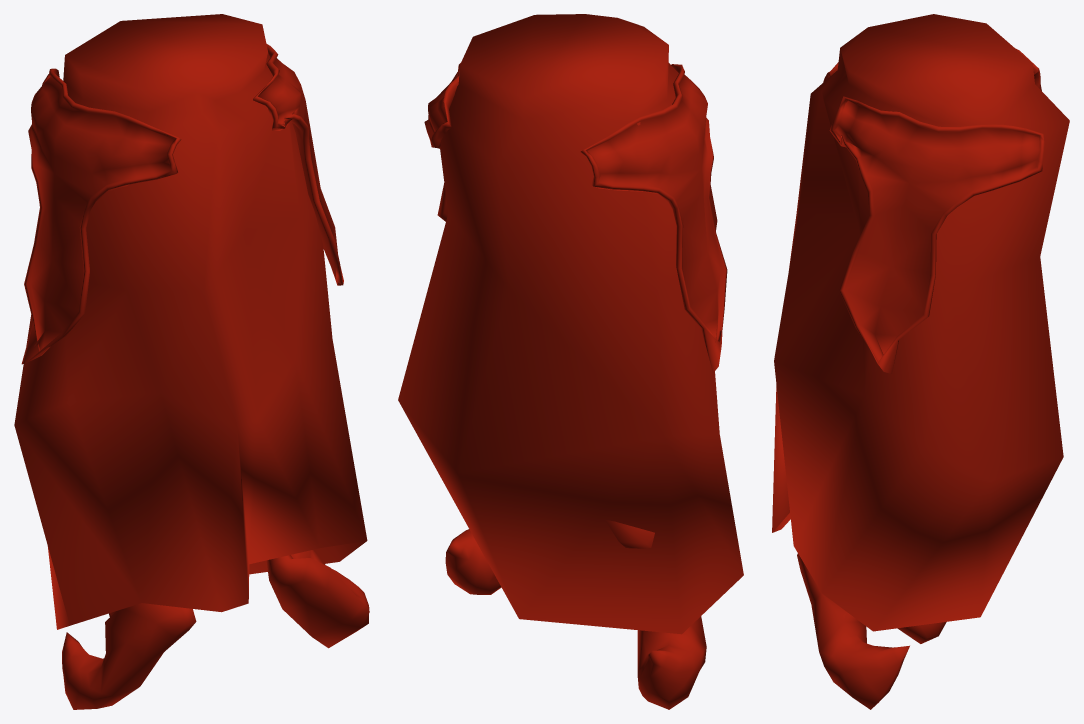
Rendered from bot_000043.obj.
3 renders of one model, left to right at view 1: azimuth 30°, elevation 25°; view 2: azimuth 150°, elevation 25°; view 3: azimuth 270°, elevation 25°, orthographic. The views are drawn at different scales.
Parts seen in each view (by area): view 1: LowPoly_Warlock.004_Plane.004; view 2: LowPoly_Warlock.004_Plane.004; view 3: LowPoly_Warlock.004_Plane.004.
Part boxes in pixels (bbox=[...]): LowPoly_Warlock.004_Plane.004: bbox=[14, 14, 369, 709]; LowPoly_Warlock.004_Plane.004: bbox=[398, 14, 743, 709]; LowPoly_Warlock.004_Plane.004: bbox=[772, 14, 1069, 709].
Size of the model in its own units: 0.5942 by 1.18 by 0.5096.
